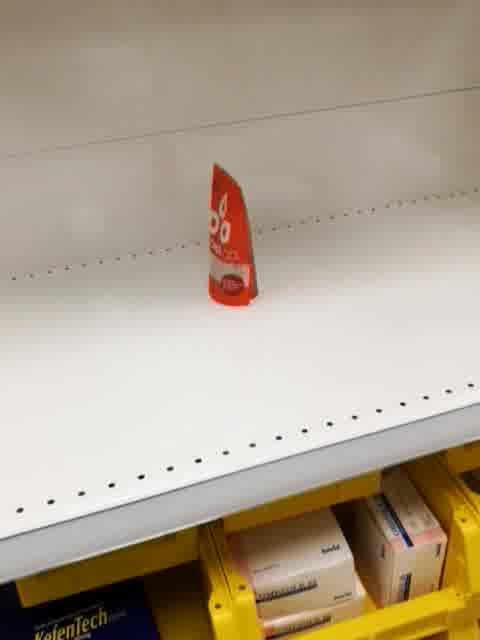whitechia: (204, 158, 262, 307)
